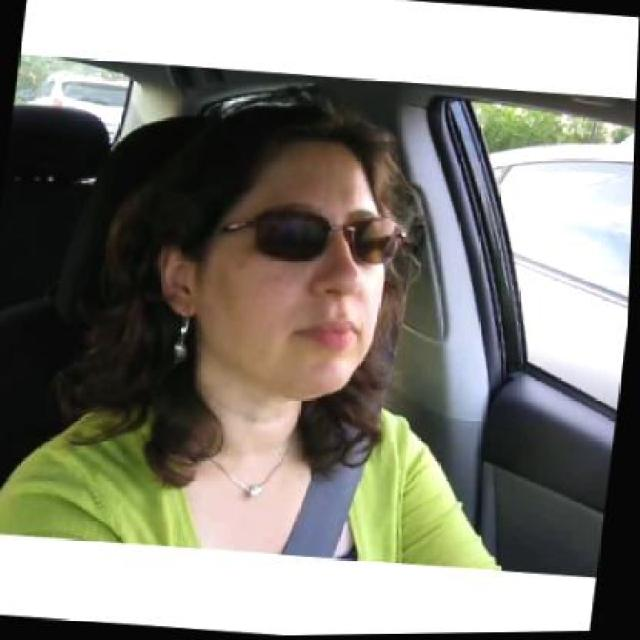attentif: (147, 85, 427, 403)
